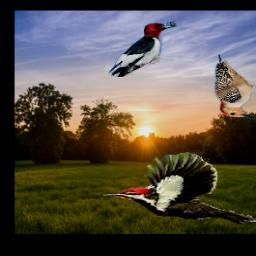Woodpecker: (101, 153, 256, 225), (108, 19, 179, 77), (214, 55, 256, 121)
